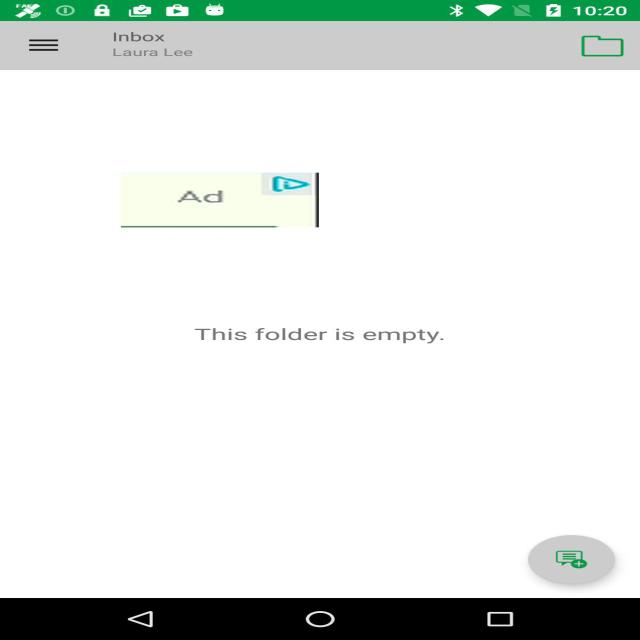sneaking: (121, 173, 319, 227)
